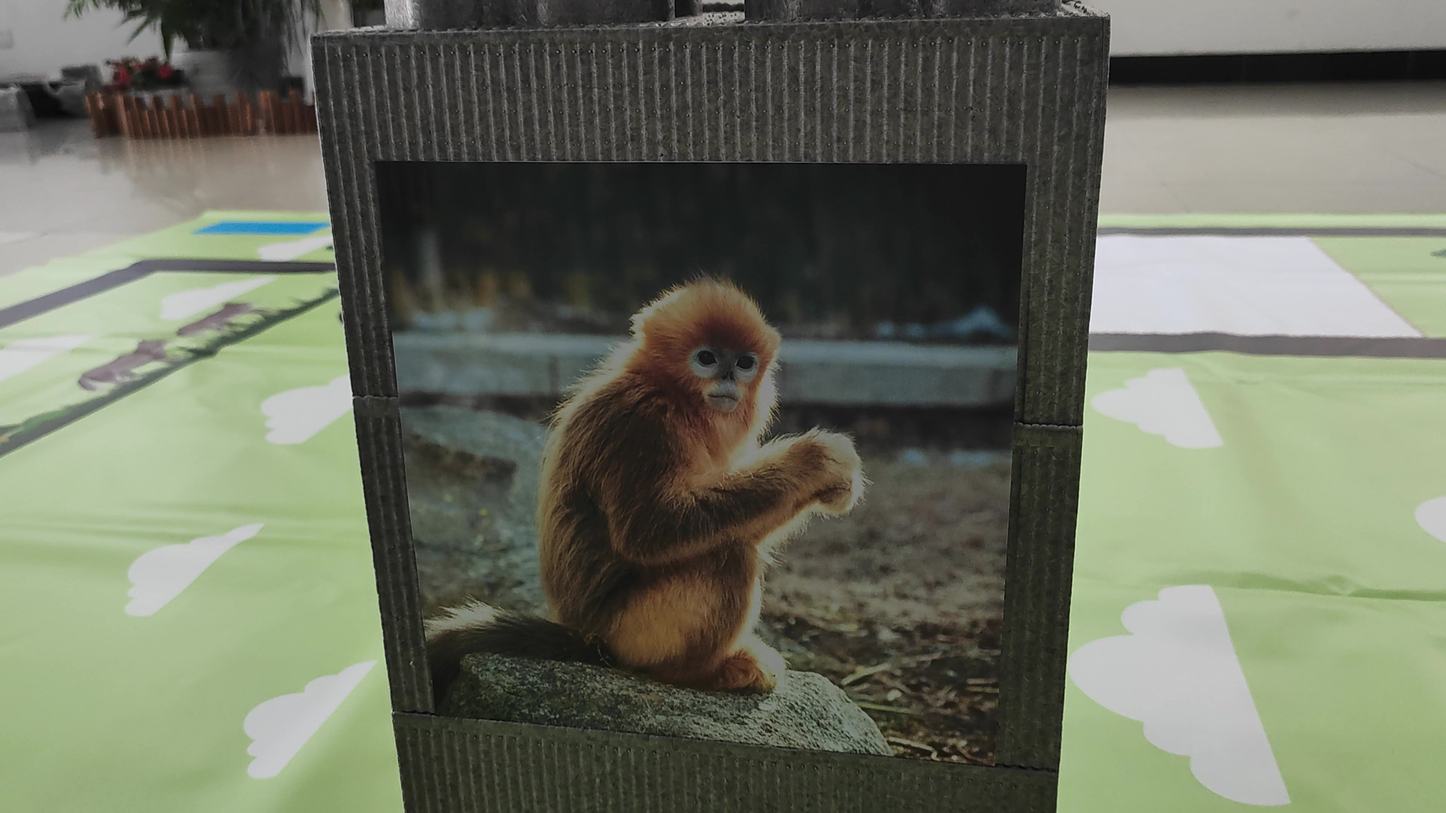monkey: (407, 252, 865, 747)
